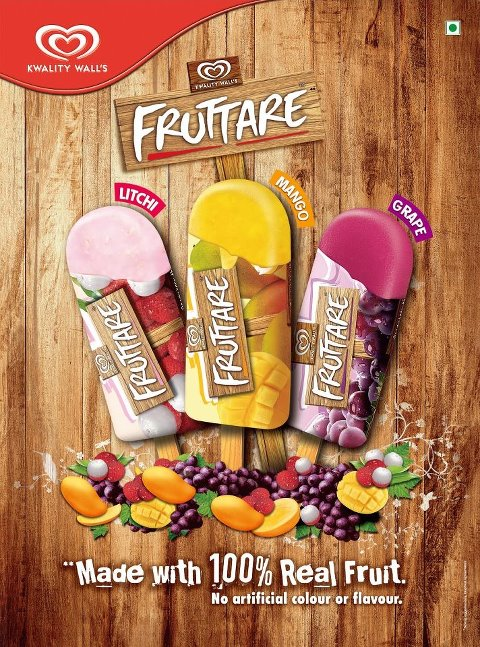Kwality_Walls: (26, 20, 107, 69)
